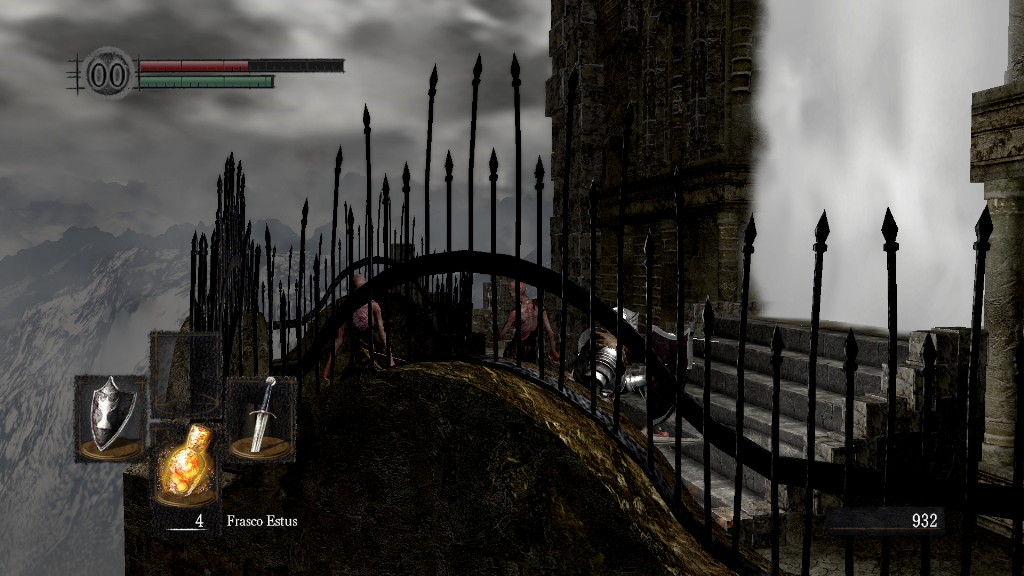health: (138, 58, 343, 71)
hollow: (317, 272, 393, 381), (487, 279, 565, 368)
humanity: (80, 45, 136, 102)
player: (567, 305, 694, 445)
souls: (825, 506, 945, 536)
stamina: (138, 74, 274, 88)
